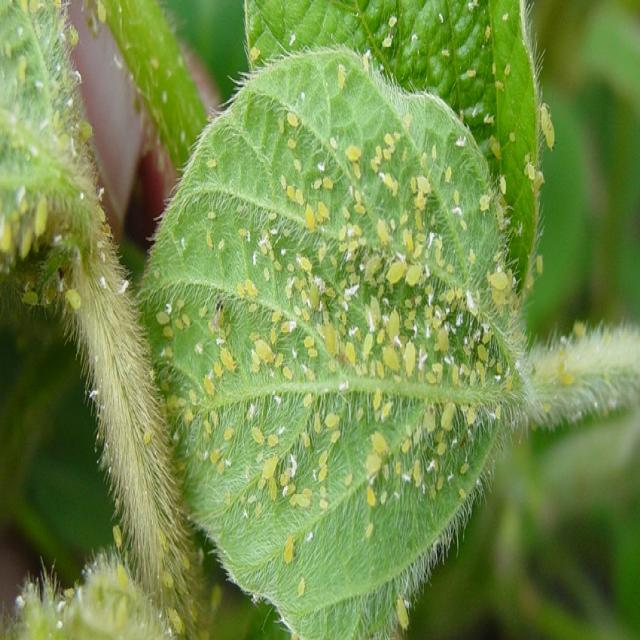Aphid-Grouped-: (156, 126, 508, 515)
Aphid-Grown-: (253, 336, 277, 368), (250, 424, 264, 446), (205, 156, 219, 169), (261, 266, 271, 281)
